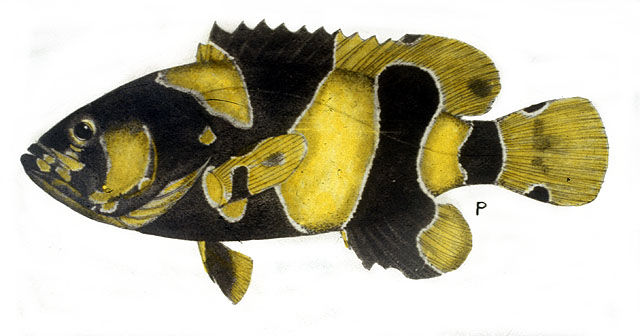fish: (21, 19, 610, 306)
